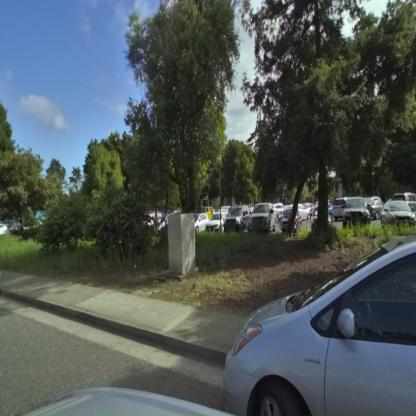car: (217, 226, 416, 416), (338, 198, 372, 226), (382, 198, 416, 224), (245, 203, 274, 233), (224, 207, 251, 233), (309, 203, 334, 225), (366, 197, 384, 219), (330, 198, 347, 221), (196, 213, 212, 233), (0, 223, 8, 237)
